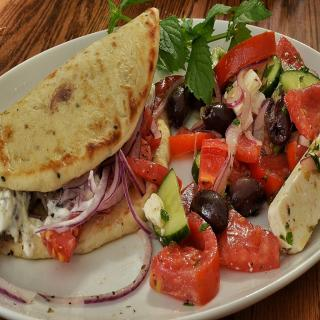Salad: (126, 1, 320, 319)
